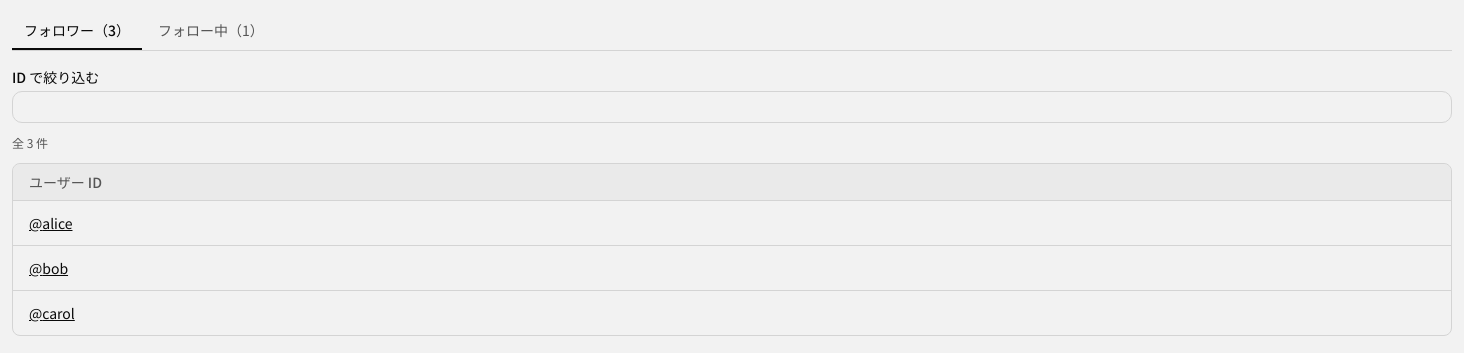
Scenario: FollowerListView › ID の一部で絞り込むと該当のみ表示し件数が更新される（US3）
Type "al" into the search field labelled "ID で絞り込む" at (732, 107), box [12, 91, 1452, 123]
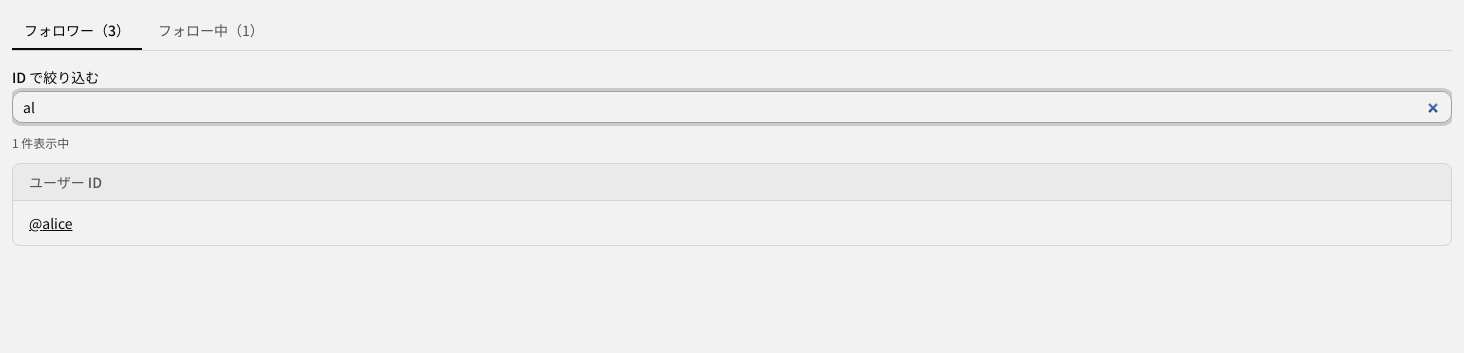
Expected: the link "@alice" is shown, [29, 213, 72, 233]
Expected: the text "1 件表示中" is shown, [12, 134, 69, 151]
Expected: the link "@bob" is gone
